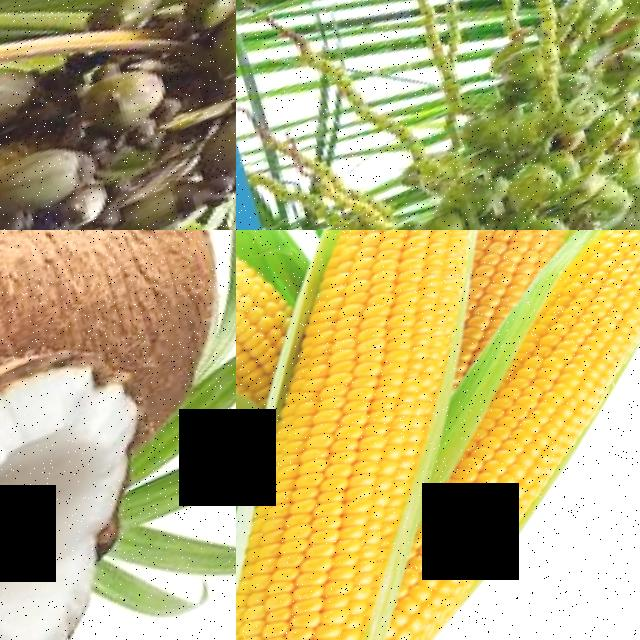coconut: (0, 330, 199, 640), (0, 230, 234, 443), (75, 56, 181, 154), (0, 134, 98, 230), (188, 101, 236, 207), (85, 0, 169, 51), (201, 0, 236, 90)
corn: (236, 262, 512, 523), (361, 390, 640, 640), (236, 397, 448, 640), (480, 230, 640, 422), (266, 230, 501, 332), (438, 230, 638, 296), (236, 230, 307, 411)
